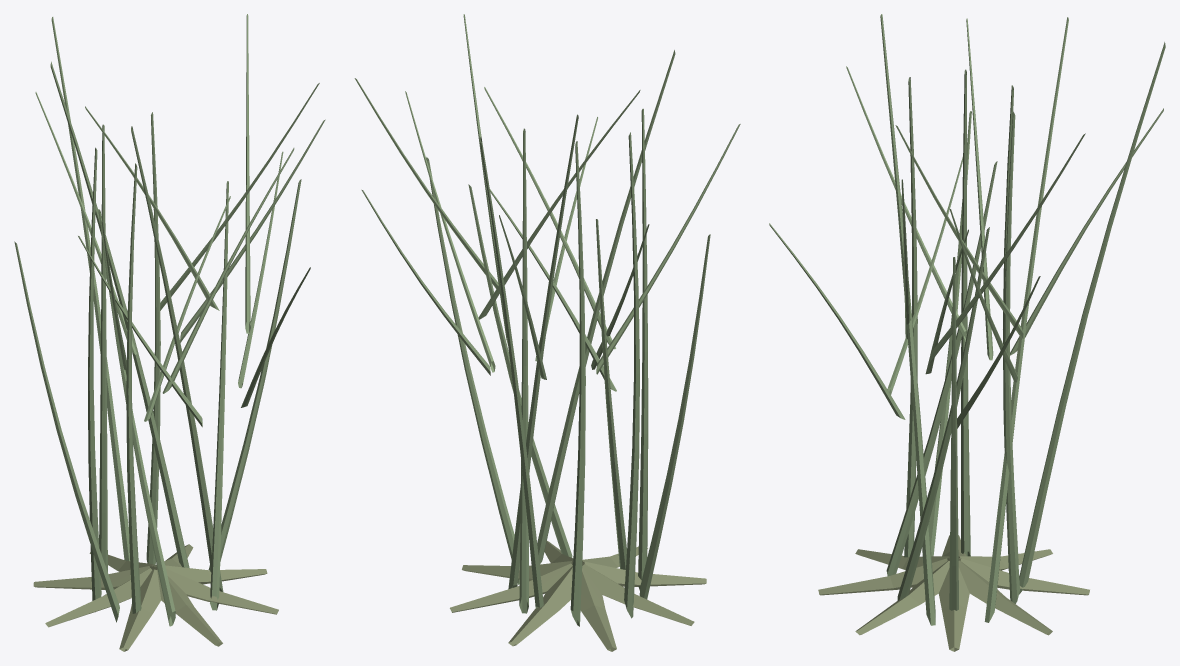
Rendered from FilamentHabitat1.gltf.
3 renders of one model, left to right at view 1: azimuth 30°, elevation 25°; view 2: azimuth 150°, elevation 25°; view 3: azimuth 270°, elevation 25°, orthographic. The views are drawn at different scales.
Parts seen in each view (by area): view 1: FilamentHabitat1; view 2: FilamentHabitat1; view 3: FilamentHabitat1.
Part boxes in pixels (x1,y1,x2,y2): FilamentHabitat1: [14, 14, 325, 651]; FilamentHabitat1: [354, 14, 740, 651]; FilamentHabitat1: [769, 14, 1165, 651].
Bounding box in the file's own units: 1.22 × 1.99 × 1.29.
